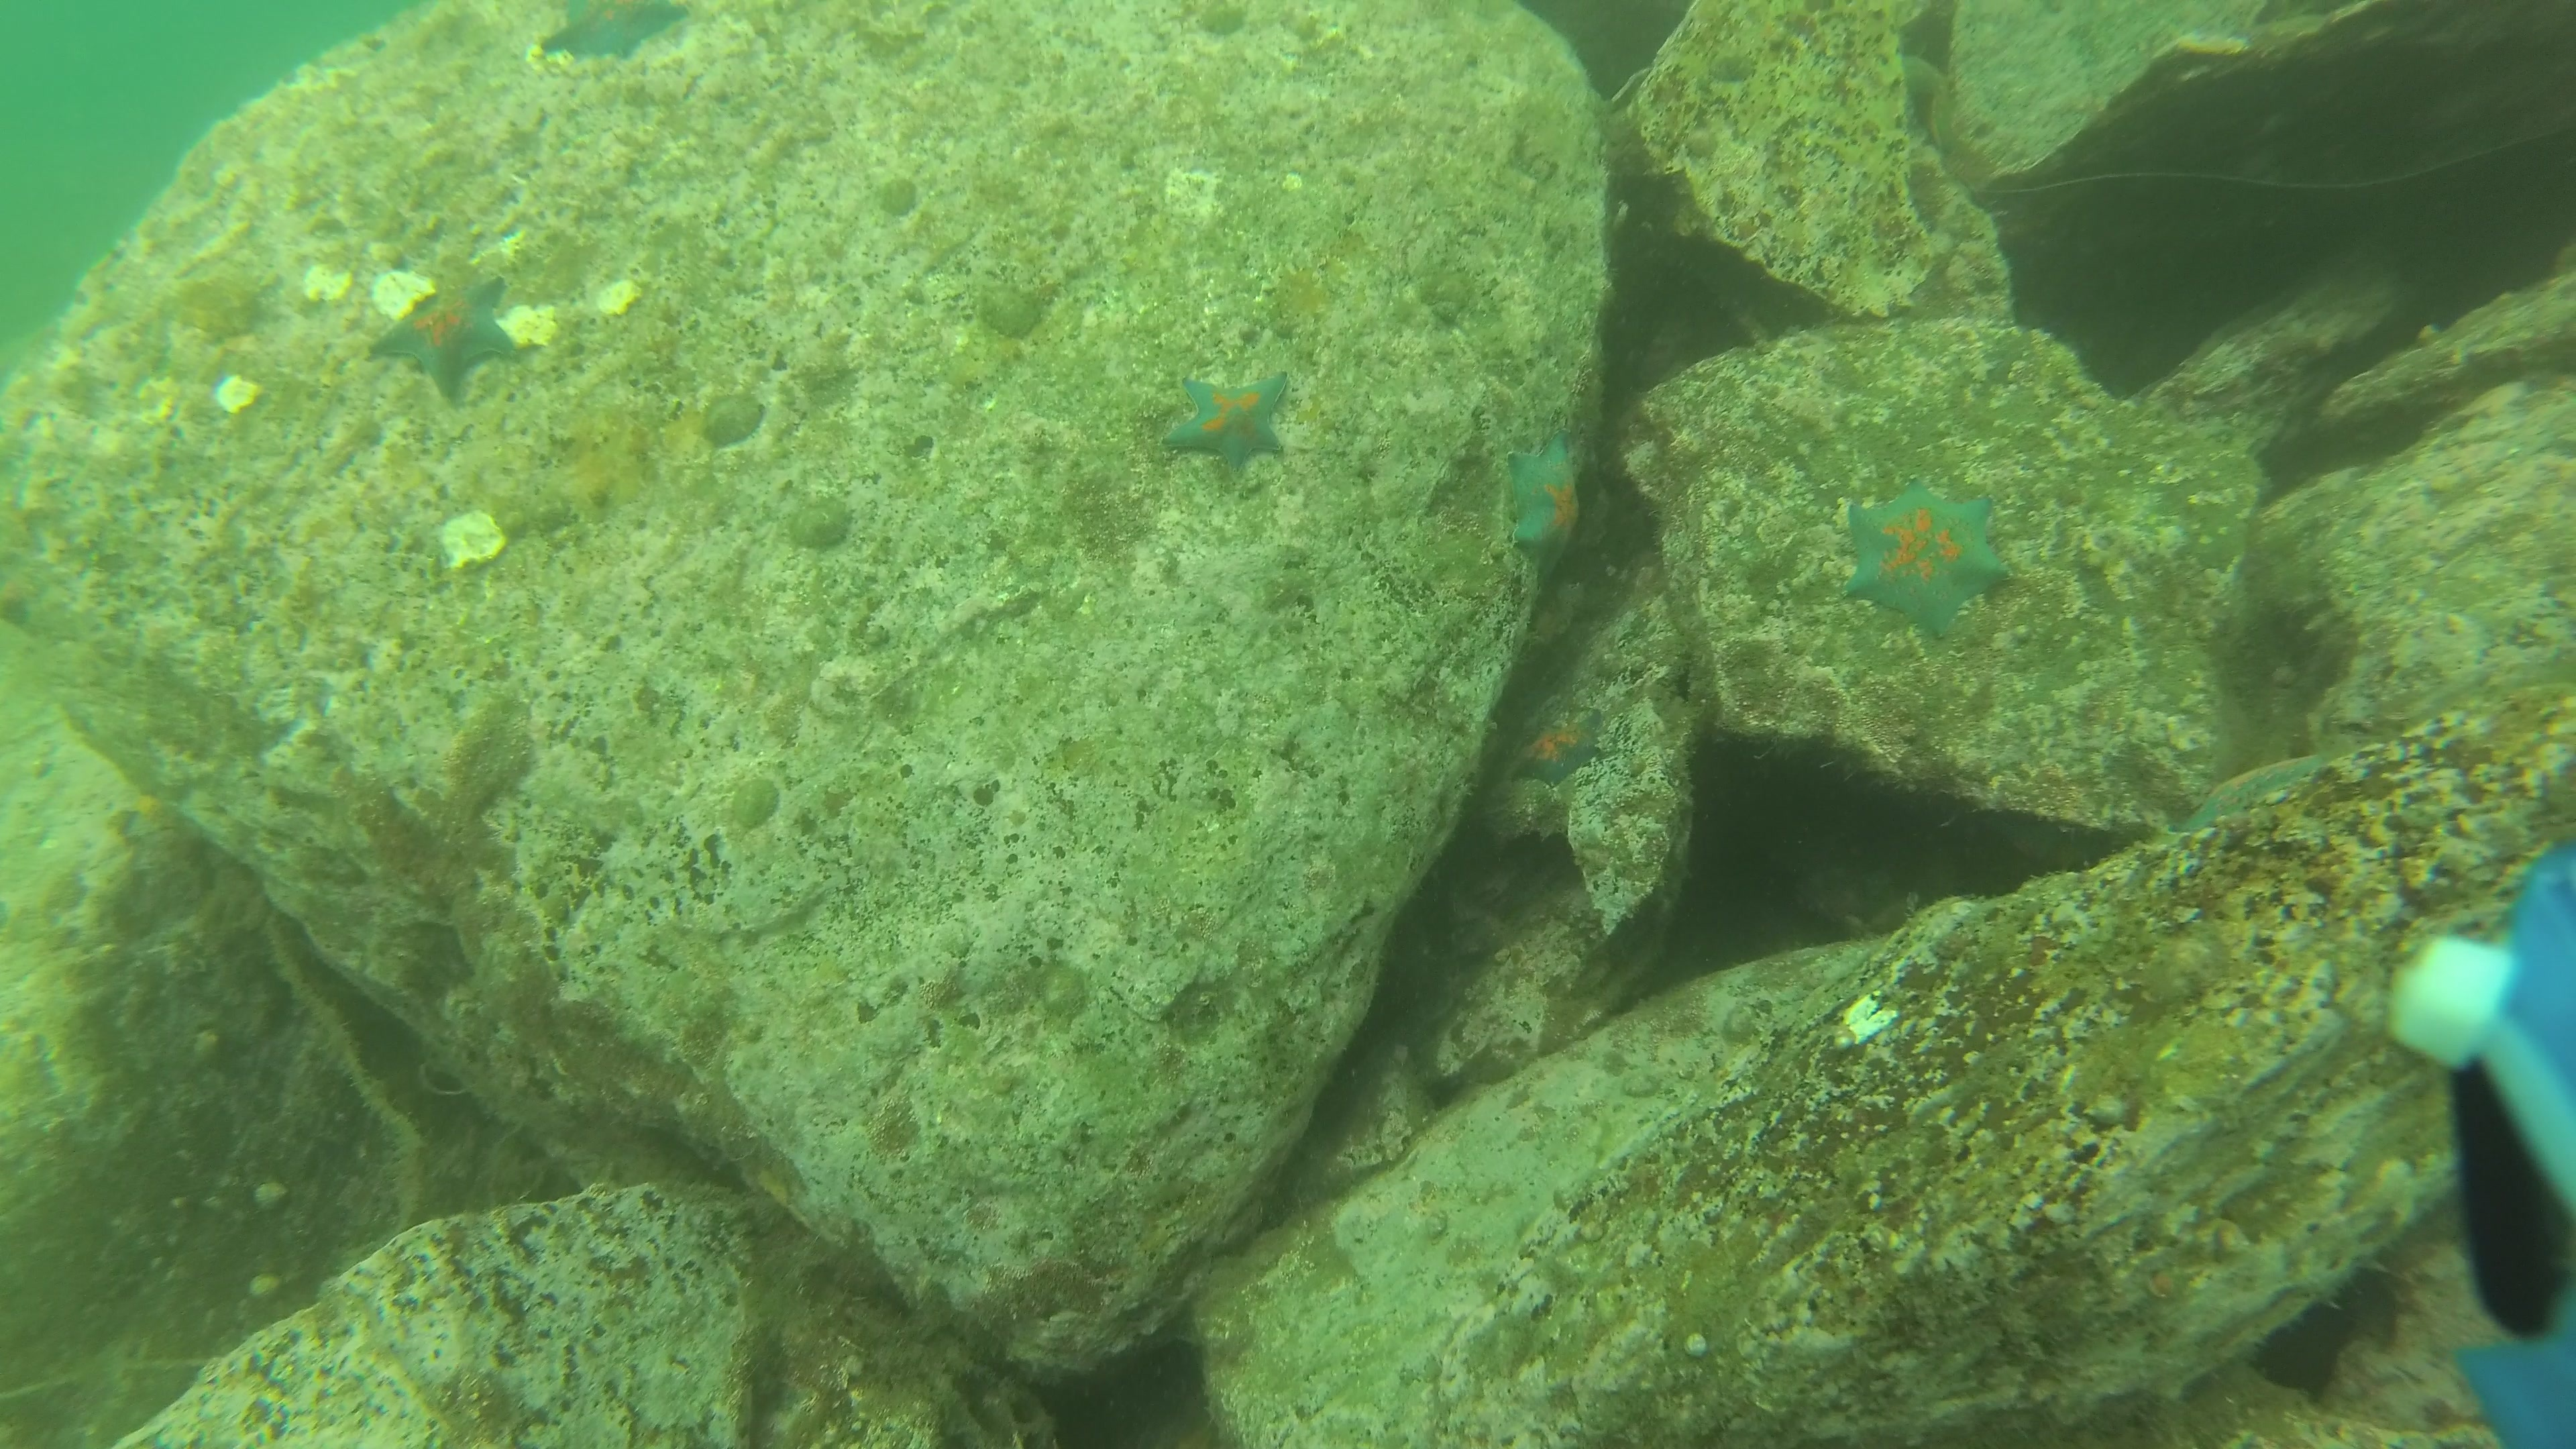holothurian: (2220, 494, 2365, 686)
starfish: (1835, 471, 2017, 651), (361, 271, 522, 396), (2162, 745, 2334, 837), (1159, 368, 1293, 479), (1497, 421, 1585, 582), (538, 0, 697, 69), (1502, 702, 1614, 791)
